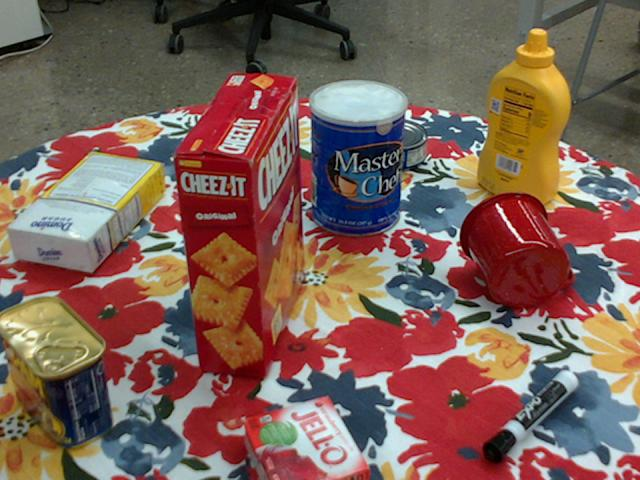cracker_box: (168, 73, 301, 378)
gelatin_box: (243, 395, 373, 479)
large_marker: (485, 368, 579, 460)
master_chef_can: (309, 79, 407, 237)
mug: (458, 190, 573, 307)
mustard_bottle: (476, 30, 569, 206)
potted_meat_can: (0, 295, 111, 447)
sugar_box: (7, 152, 164, 273)
tomato_soup_can: (233, 75, 291, 175)
tuna_fish_can: (361, 119, 430, 172)
